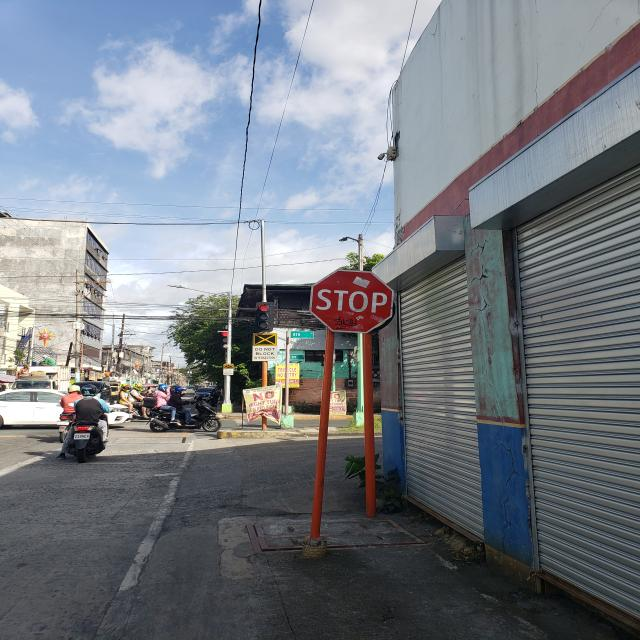stop-sign: (309, 268, 394, 334)
